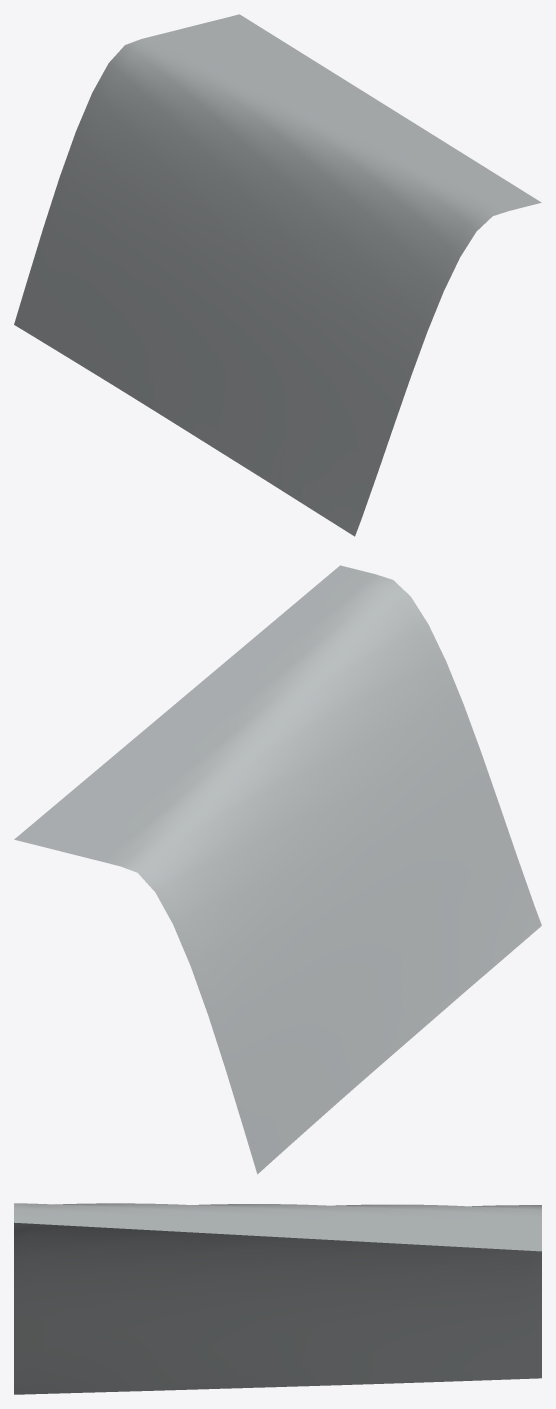
The model's file is alpine-11-5.glb.
3 renders of one model, top to bottom at view 1: azimuth 30°, elevation 25°; view 2: azimuth 150°, elevation 25°; view 3: azimuth 270°, elevation 25°, orthographic. The views are drawn at different scales.
Visible parts, largest first — view 1: alpine-11-5; view 2: alpine-11-5; view 3: alpine-11-5.
Boxes of the visible parts, bbox=[...] form: alpine-11-5: bbox=[14, 14, 541, 536]; alpine-11-5: bbox=[14, 565, 541, 1174]; alpine-11-5: bbox=[14, 1203, 541, 1394].
Size of the model in its own units: 110 by 135 by 256.
1 material, 1 textured.
